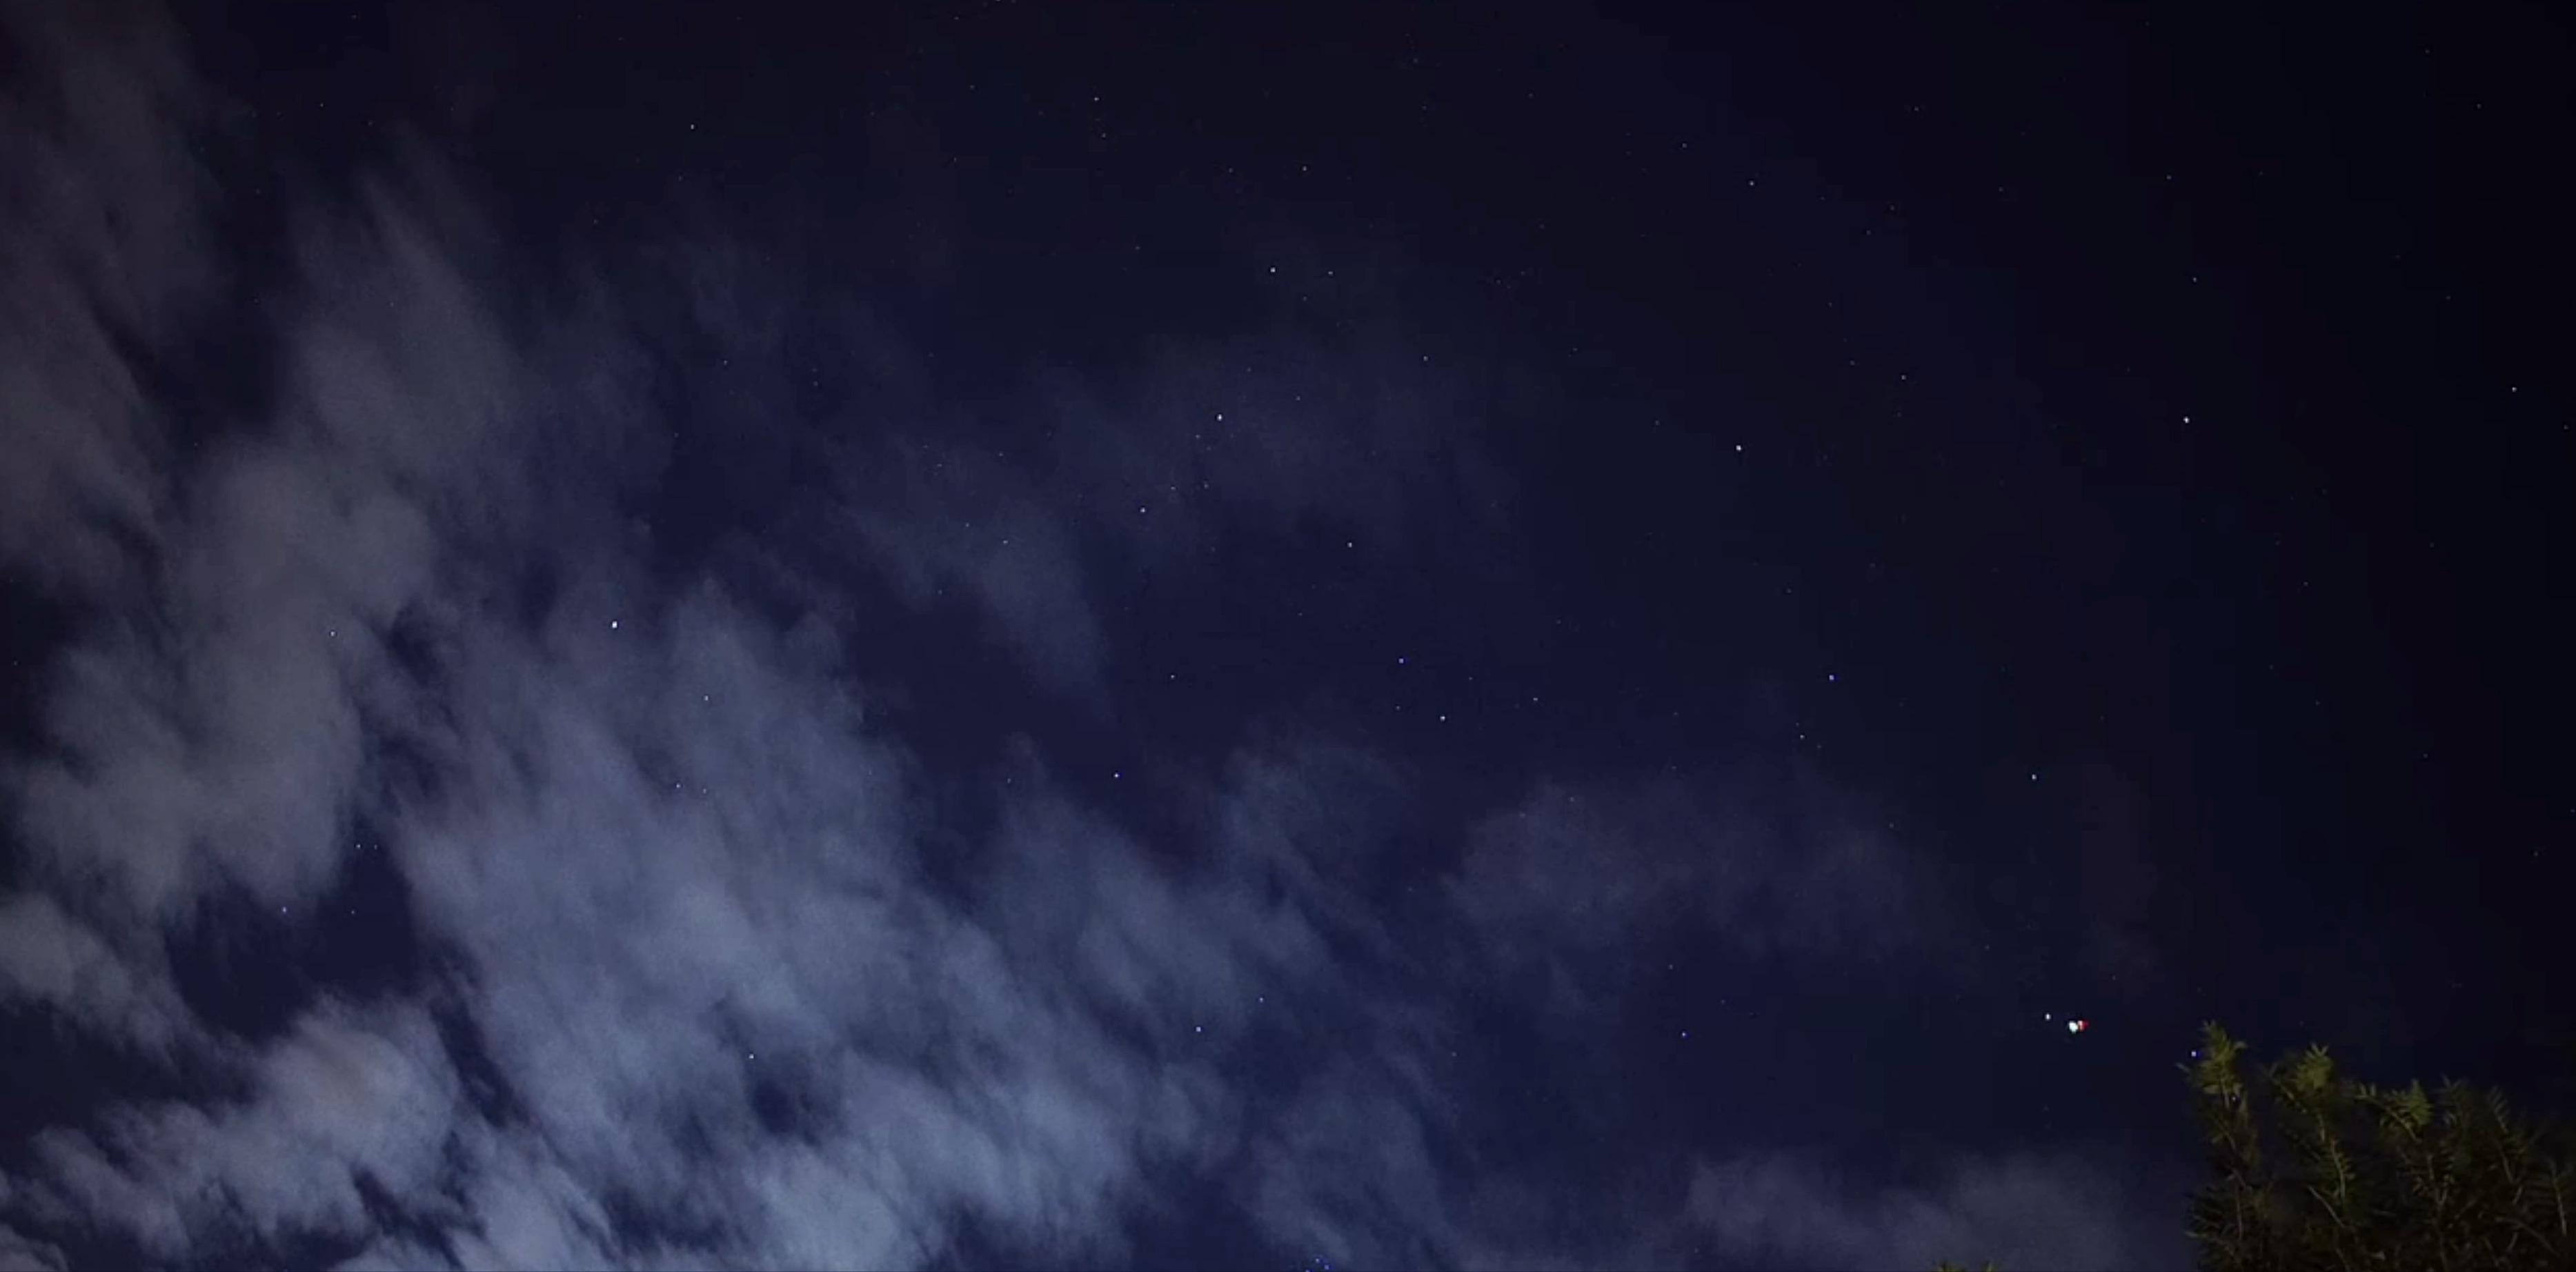Plane: (2035, 1007, 2101, 1044)
